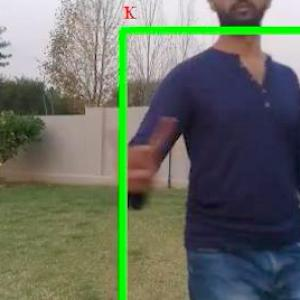takeoff-hand: (104, 107, 178, 201)
